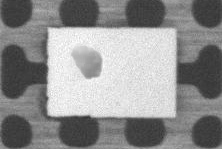DIE_INK: (72, 45, 103, 79)
